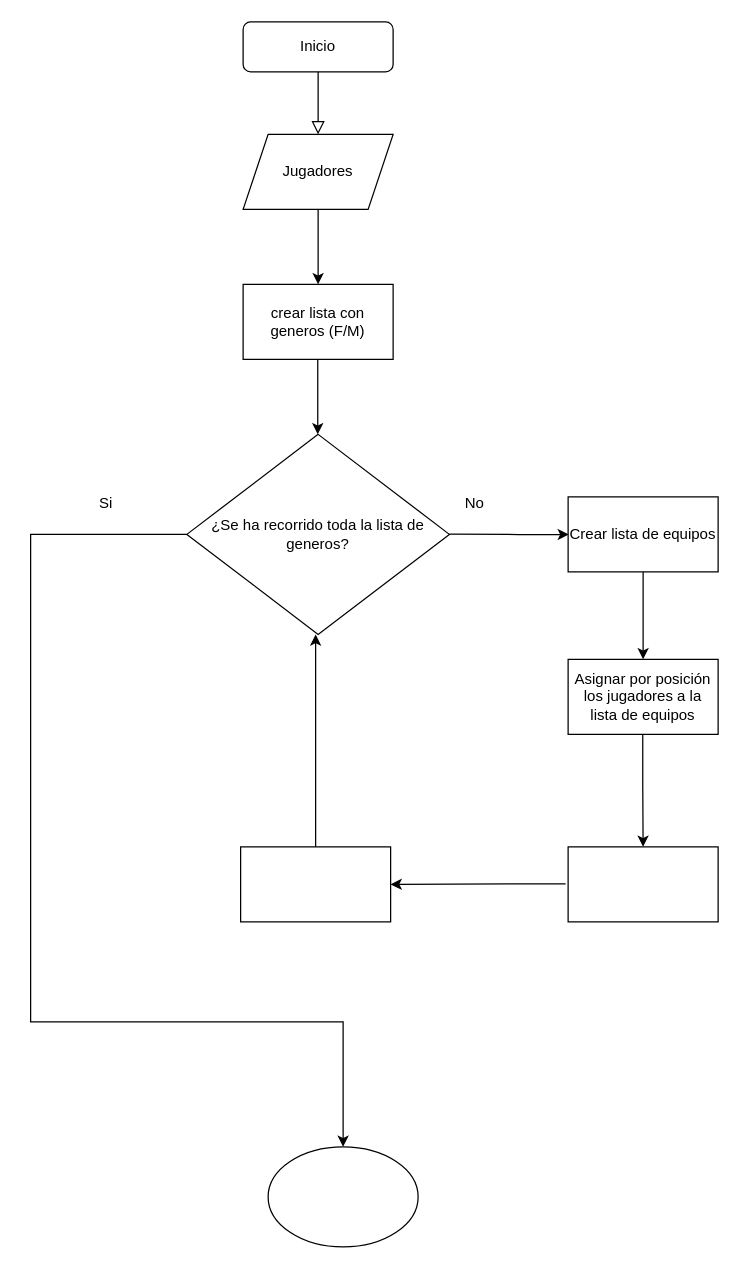
This 740x1269 diagram has some shape labels left out. Each missing label, with the centre of its shape:
Cambiar de genero: point 315,884
Fin: point 342,1196
Los jugadores que se queden sin equipo, se dejan en reserva: point 642,884
